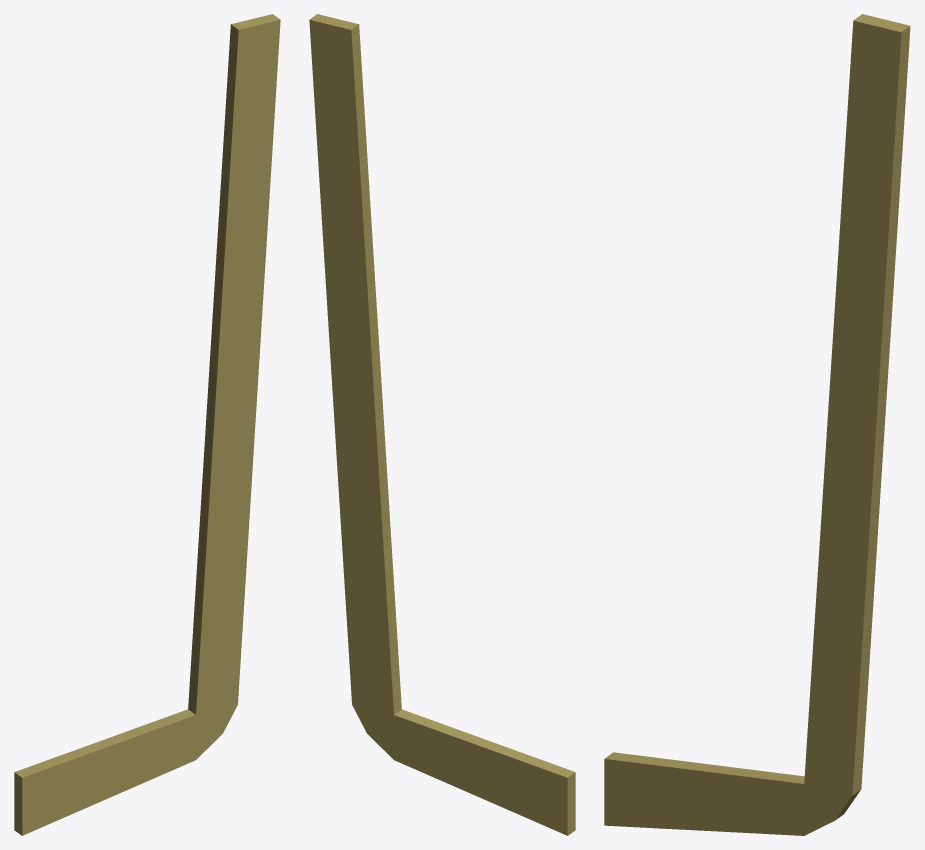
The model's file is Stick.gltf.
3 views of the same model, side by side, from view 1: azimuth 30°, elevation 25°; view 2: azimuth 150°, elevation 25°; view 3: azimuth 330°, elevation 25° (orthographic). The views are drawn at different scales.
Parts seen in each view (by area): view 1: Stick; view 2: Stick; view 3: Stick.
Part boxes in pixels (left/top/right/bottom): Stick: left=14, top=14, right=280, bottom=835; Stick: left=309, top=14, right=575, bottom=835; Stick: left=604, top=14, right=910, bottom=835.
Bounding box in the file's own units: 3.48 × 9.7 × 0.1827.
